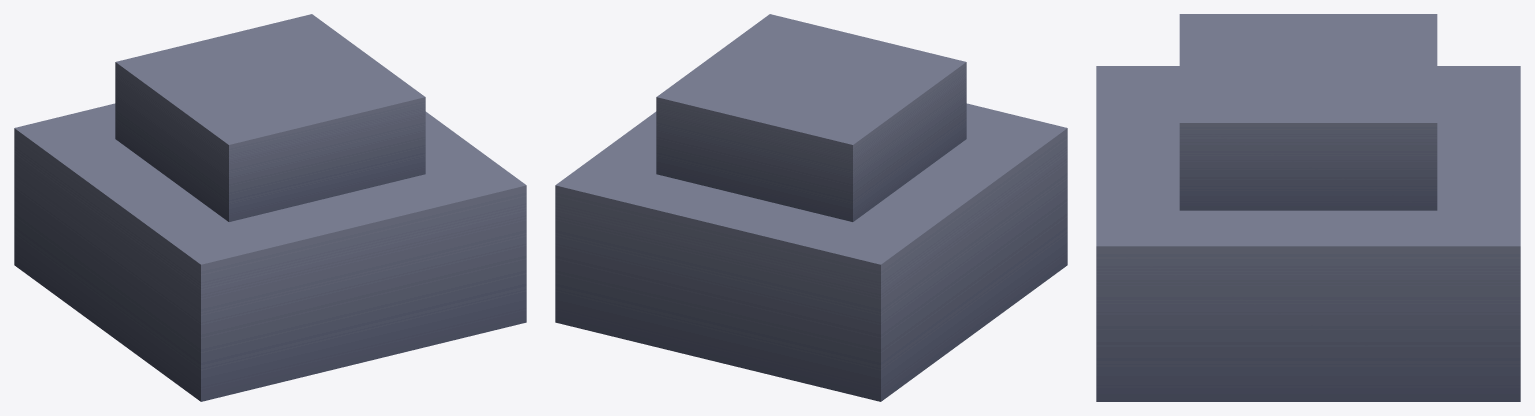
File: rock_2.glb
The picture shows the model from 3 angles, left to right: view 1: azimuth 30°, elevation 25°; view 2: azimuth 150°, elevation 25°; view 3: azimuth 270°, elevation 25°; orthographic projection. The views are drawn at different scales.
Visible parts, largest first — view 1: rock_7; view 2: rock_7; view 3: rock_7.
Part boxes in pixels (x1,y1,x2,y2): rock_7: [14, 14, 526, 401]; rock_7: [555, 14, 1067, 401]; rock_7: [1096, 14, 1520, 401].
Size of the model in its own units: 0.0832 by 0.0523 by 0.0827.
1 material, 1 textured.
